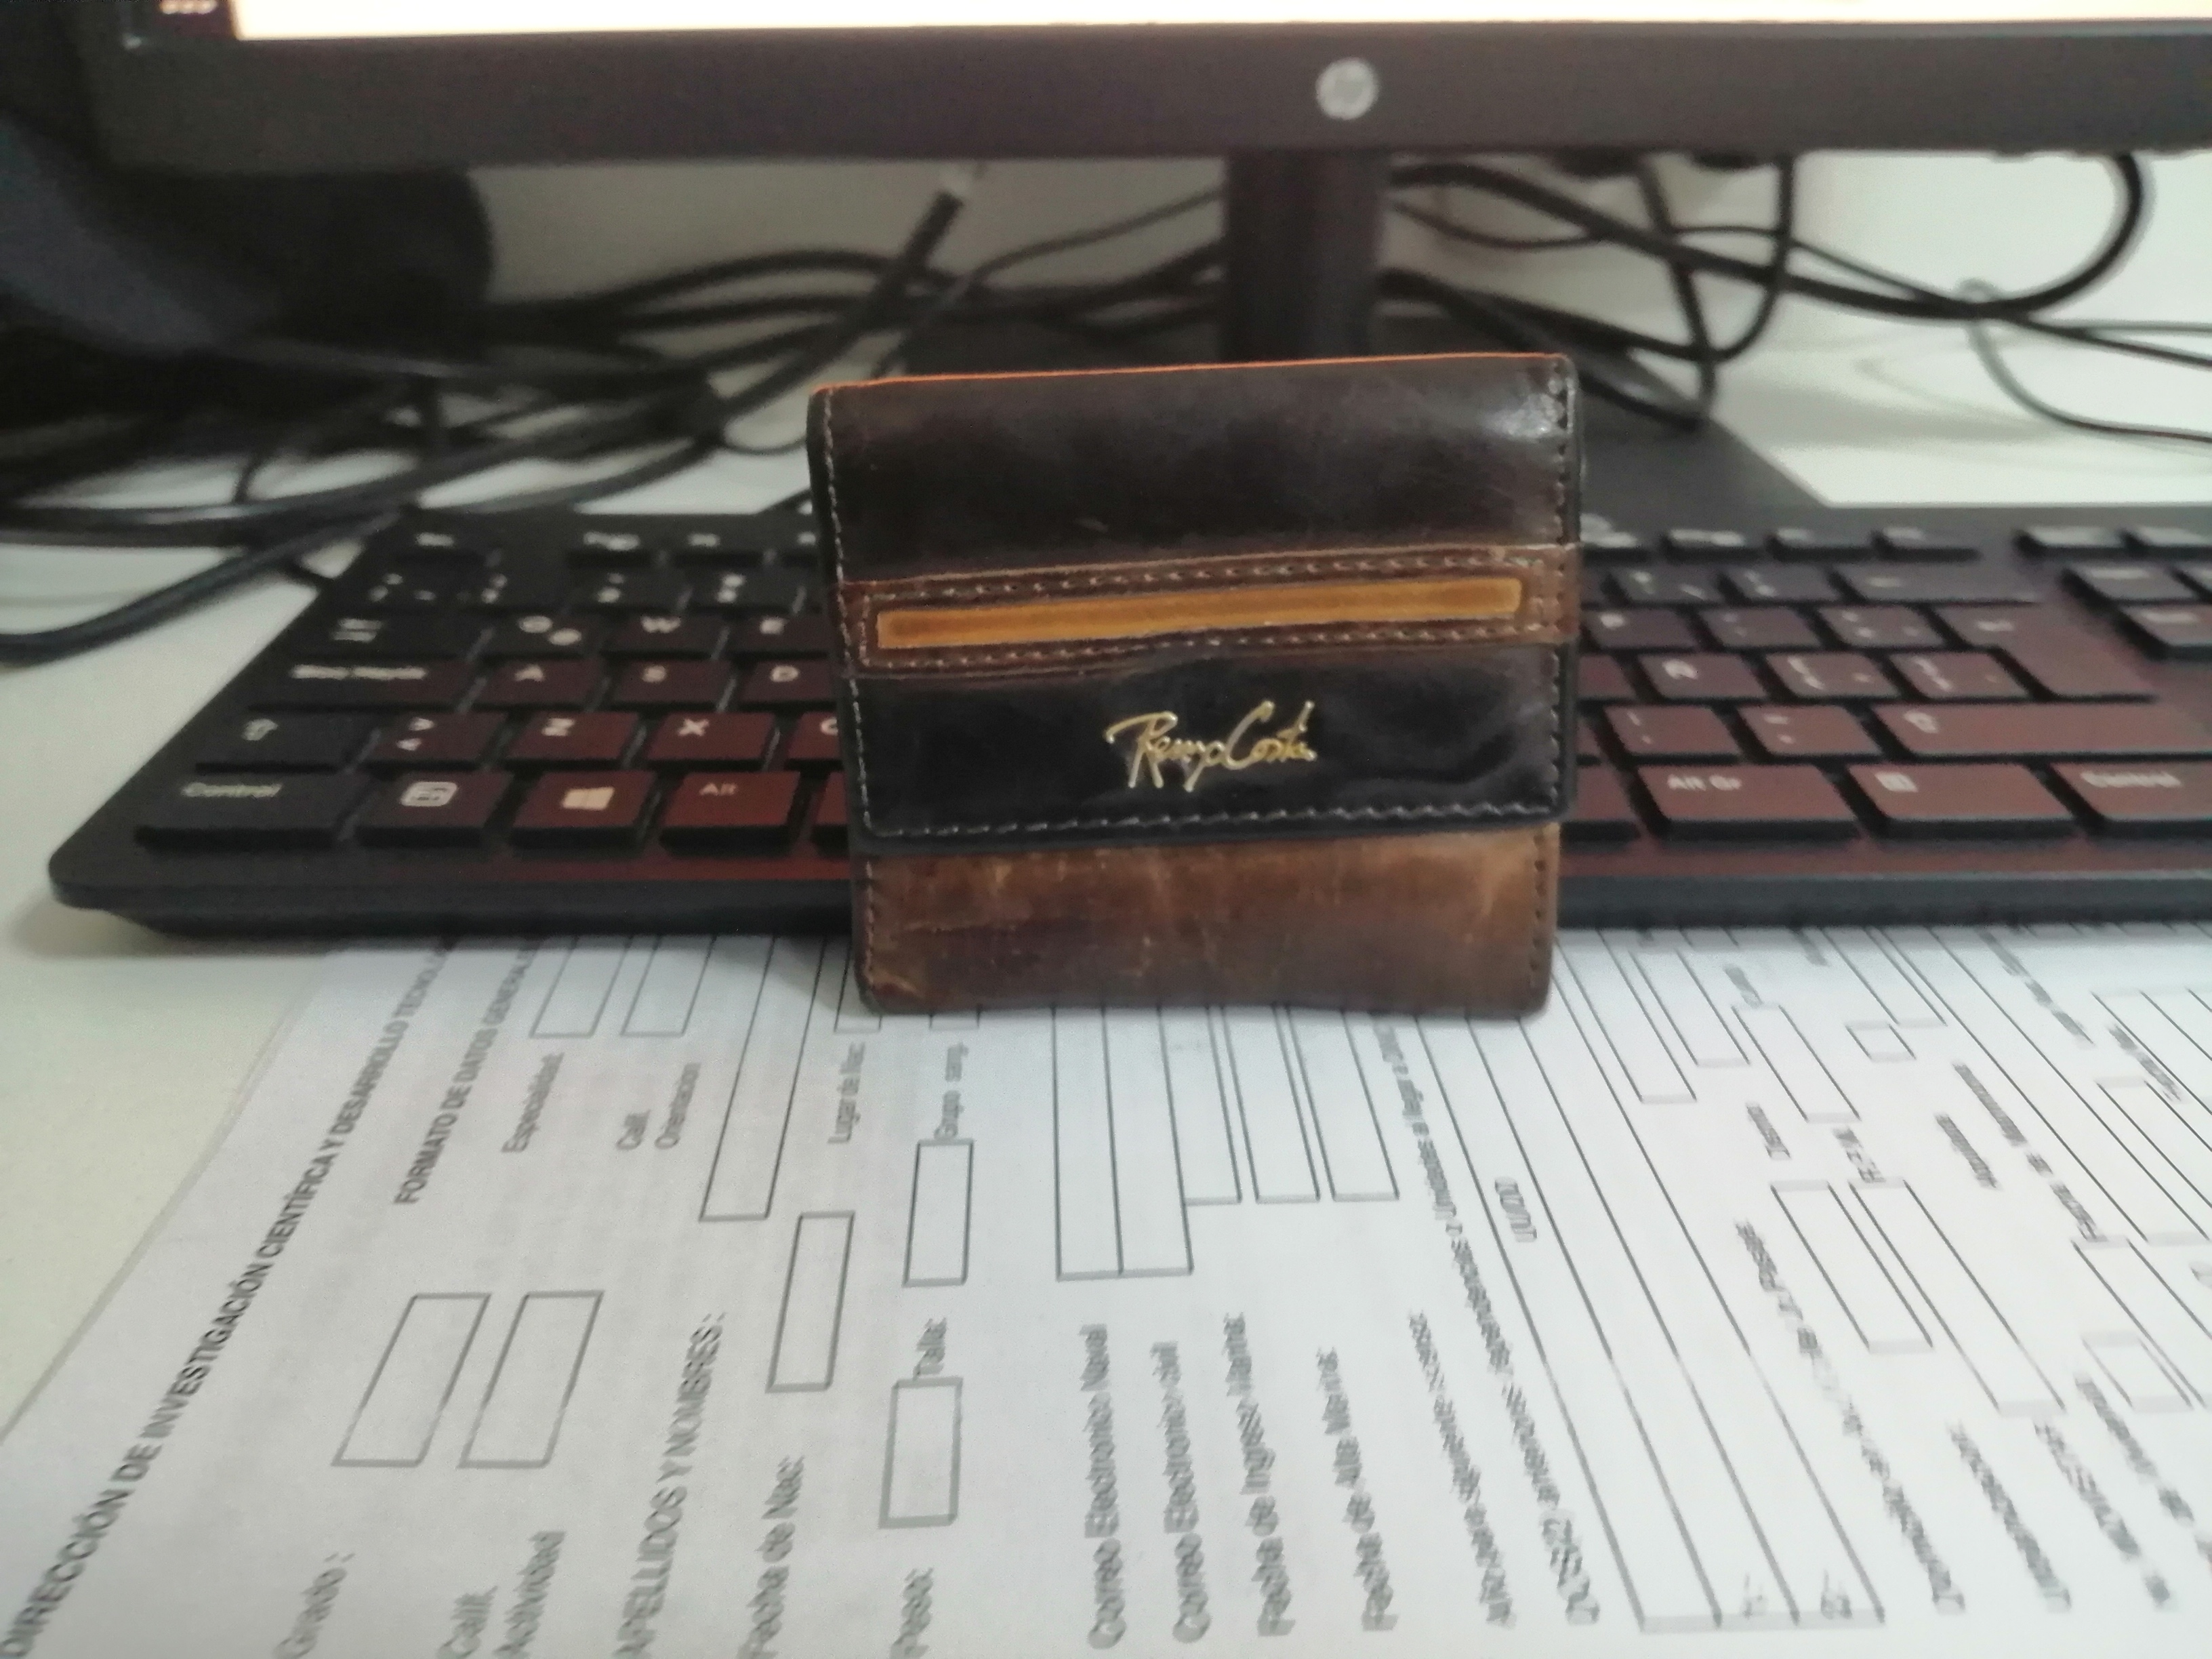monedero: (782, 338, 1588, 1040)
